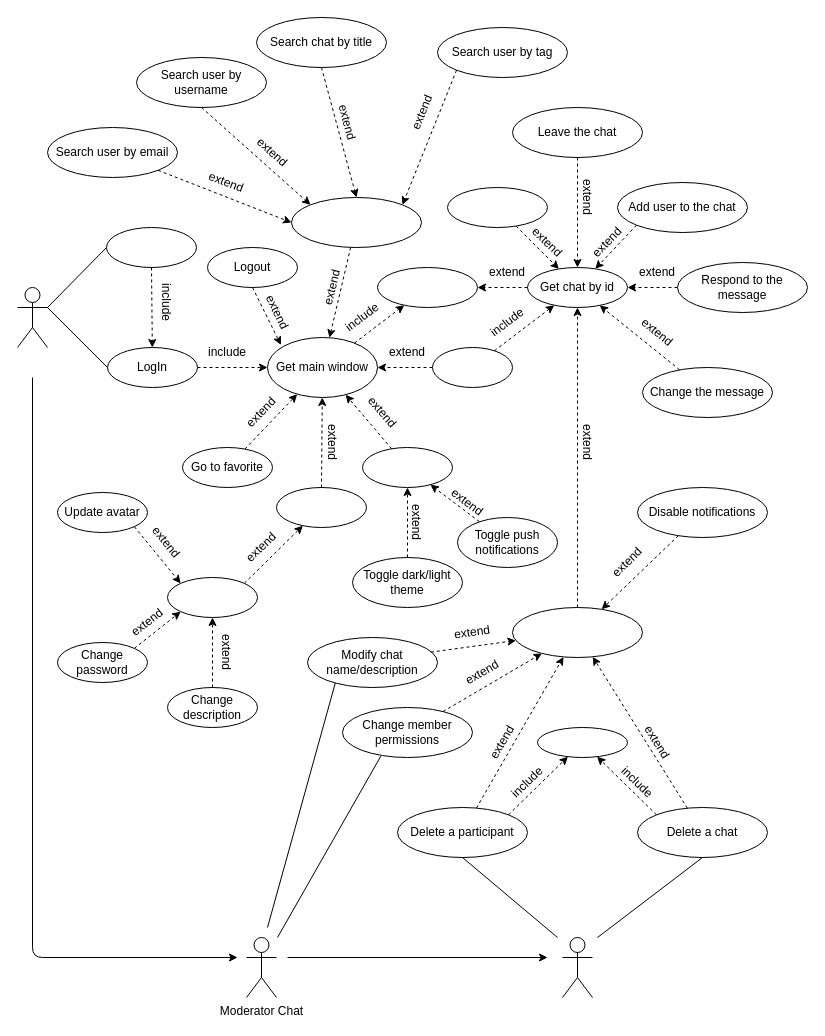
This 825x1036 diagram has some shape labels left out. Each missing label, with the centre of its shape:
Admin Chat: (577,967)
Change the chat settings: (577,632)
Change the options: (407,467)
Change the profile: (212,597)
Check profile: (321,507)
Confirm action: (582,742)
Create chat: (472,367)
Get chat list: (427,287)
Register: (151,247)
Search: (356,222)
User: (32,317)
Write message: (497,207)
